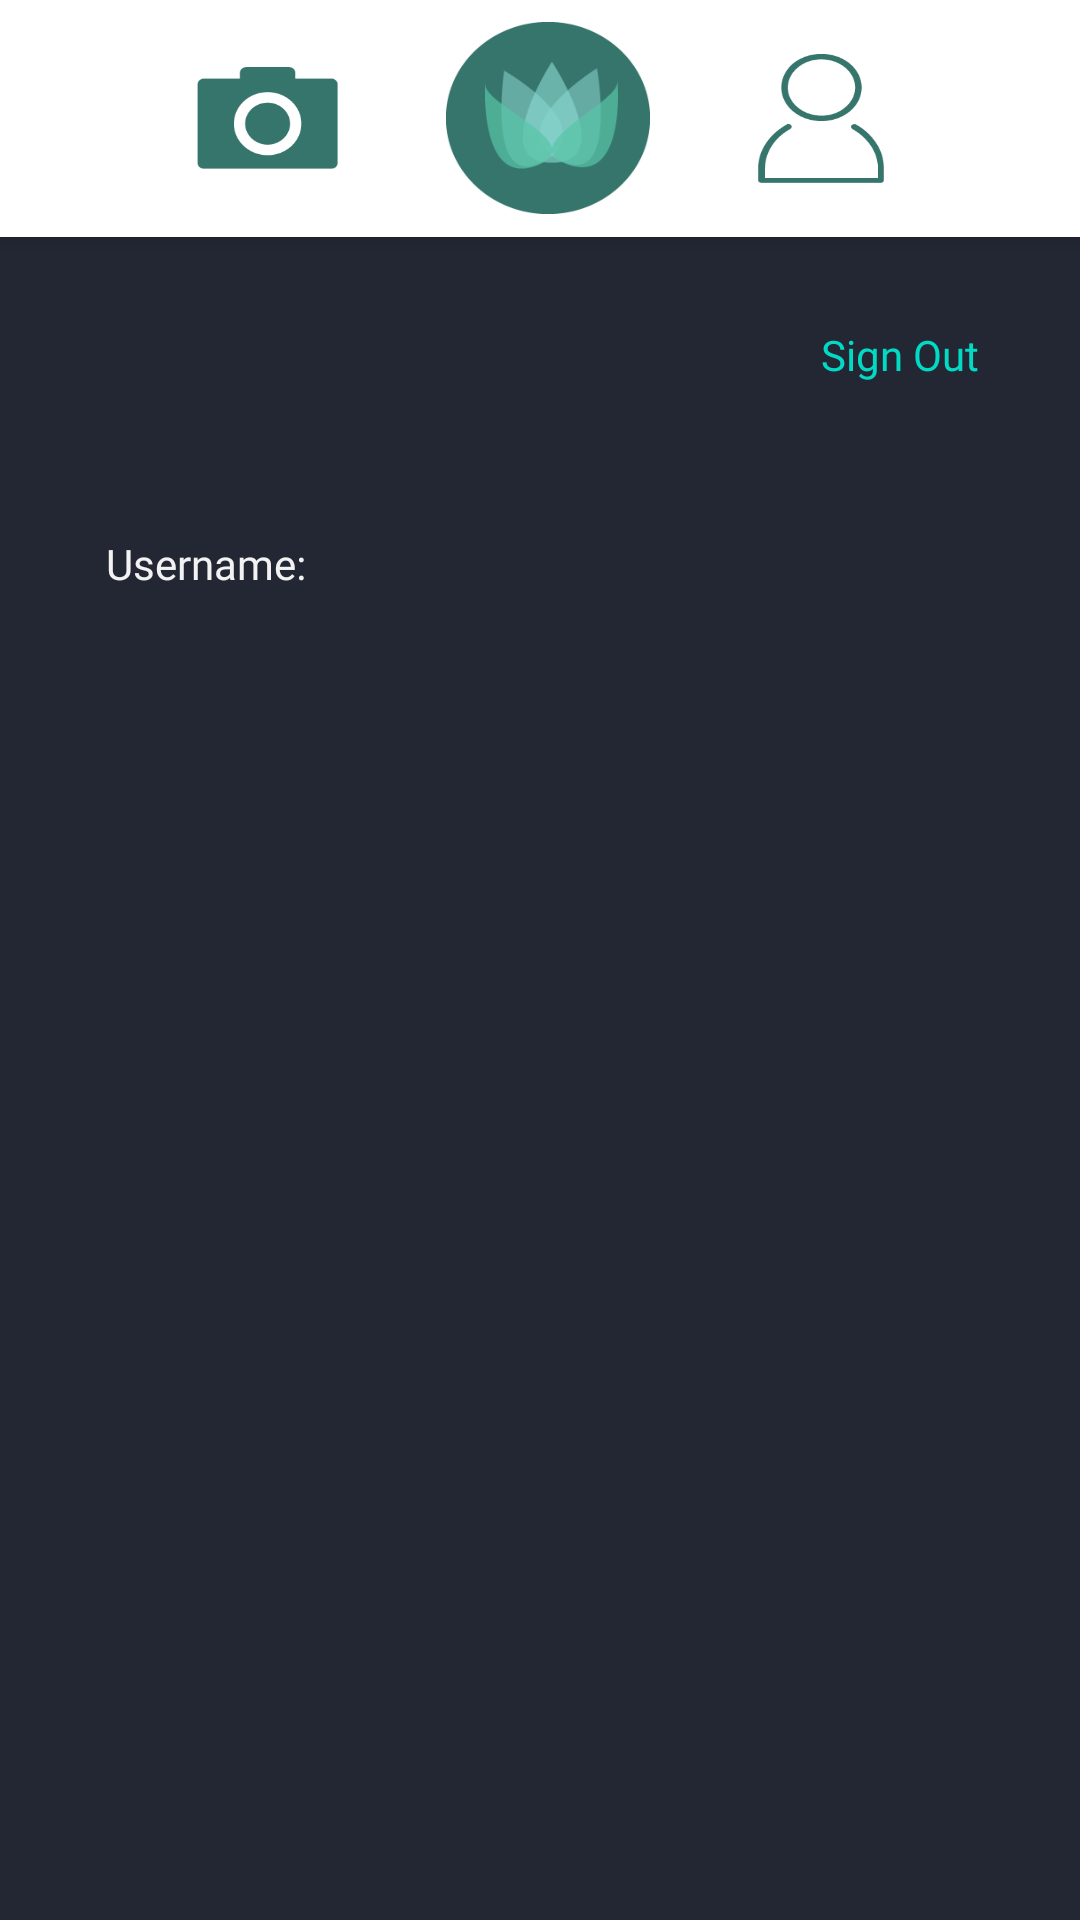

Icon bounding boxes for this 1080×1920 phone screenshot, format BBox(x1, y1, x2, y2):
cameraicon: BBox(197, 67, 338, 169)
usericon: BBox(758, 54, 884, 183)
